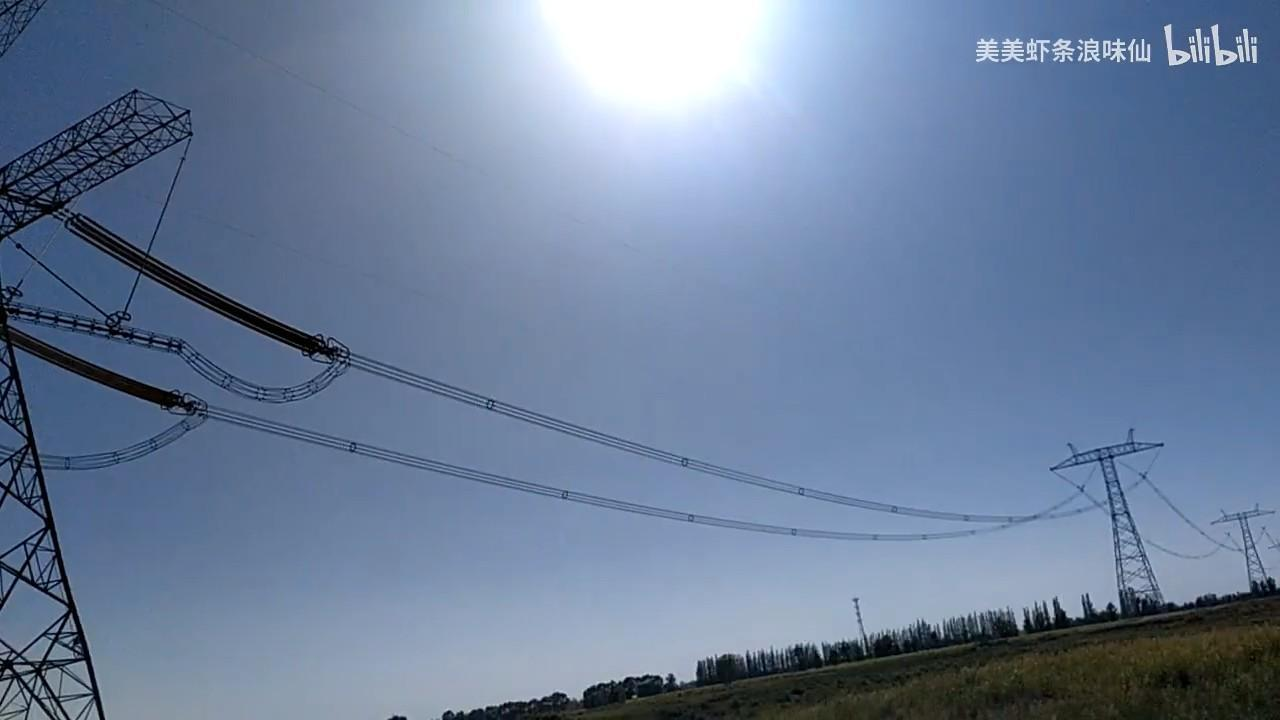power_tower: (1039, 424, 1186, 619), (1202, 502, 1275, 606)
